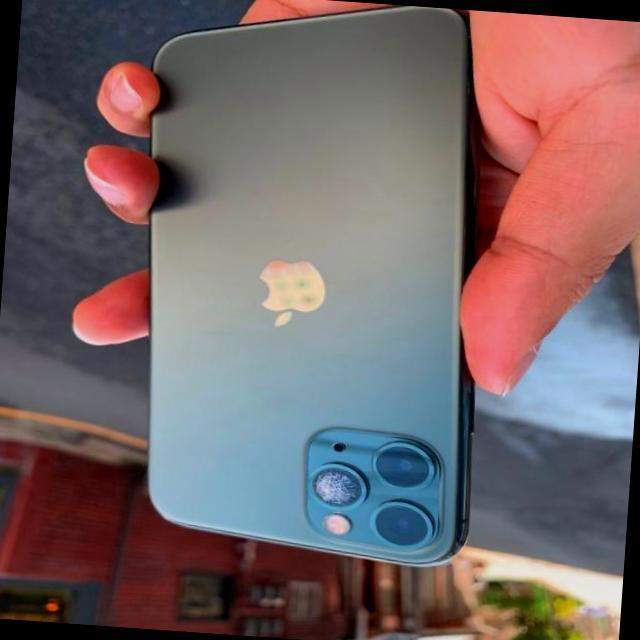lens: (308, 428, 438, 548)
phone: (113, 0, 510, 577)
